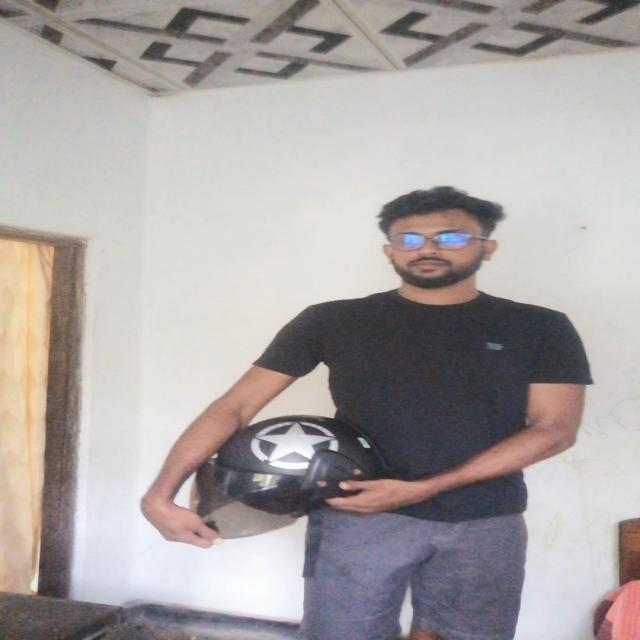Person: (147, 188, 606, 640)
